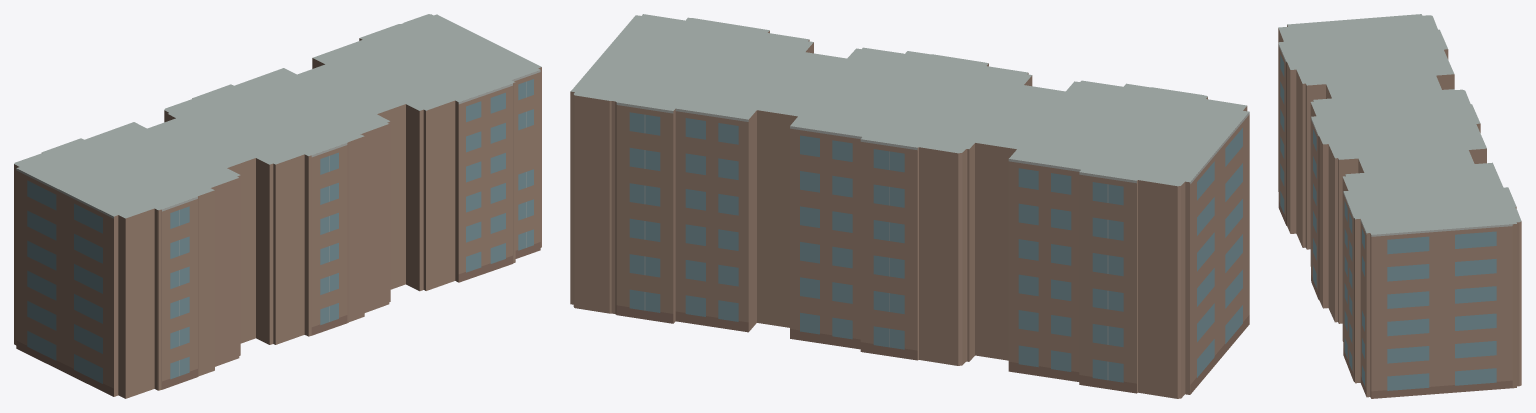
The model's file is survey-upis-32827571.glb.
The picture shows the model from 3 angles, left to right: view 1: azimuth 30°, elevation 25°; view 2: azimuth 150°, elevation 25°; view 3: azimuth 270°, elevation 25°; orthographic projection. The views are drawn at different scales.
Parts seen in each view (by area): view 1: survey-upis-32827571.tmp; view 2: survey-upis-32827571.tmp; view 3: survey-upis-32827571.tmp.
Boxes of the visible parts, x1,y1,x2,y2 form: survey-upis-32827571.tmp: [14, 14, 541, 398]; survey-upis-32827571.tmp: [570, 14, 1249, 398]; survey-upis-32827571.tmp: [1278, 14, 1521, 398].
Bounding box in the file's own units: 59.8 × 20.7 × 27.83.
